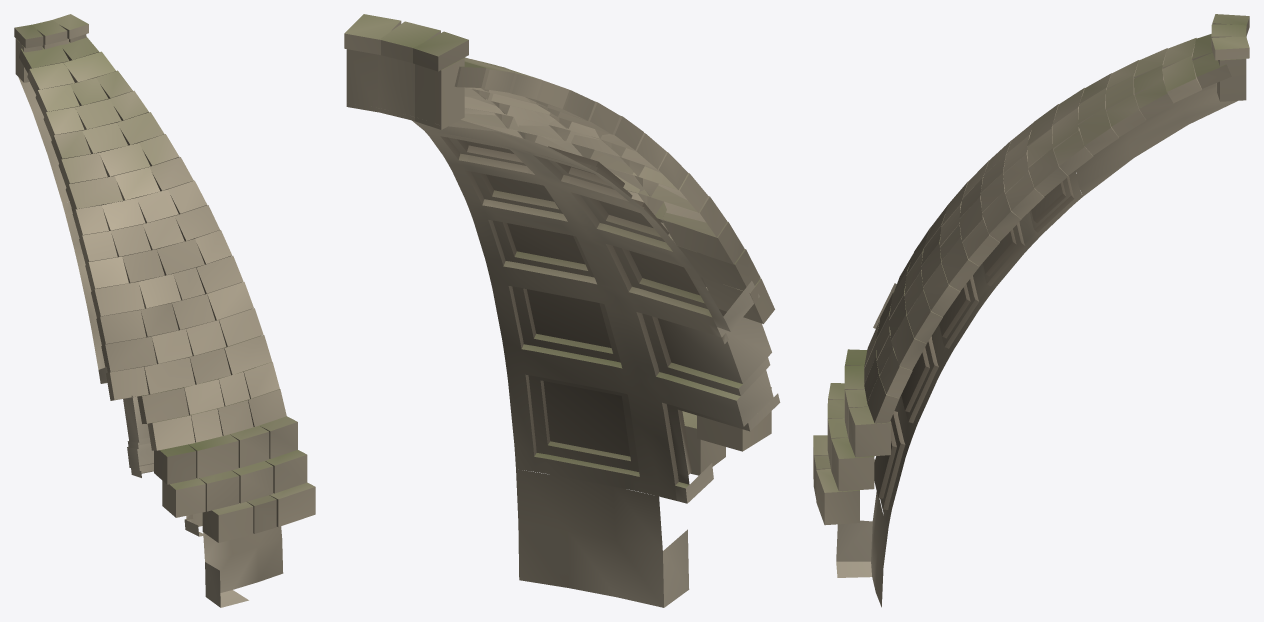
Rendered from dome_shell_bp2_mid.glb.
3 views of the same model, side by side, from view 1: azimuth 30°, elevation 25°; view 2: azimuth 150°, elevation 25°; view 3: azimuth 270°, elevation 25° (orthographic). The views are drawn at different scales.
Visible parts, largest first — view 1: dome_shell_bp2_mid; view 2: dome_shell_bp2_mid; view 3: dome_shell_bp2_mid.
Boxes of the visible parts, x1=… form: dome_shell_bp2_mid: x1=14, y1=14, x2=315, y2=607; dome_shell_bp2_mid: x1=344, y1=14, x2=780, y2=607; dome_shell_bp2_mid: x1=813, y1=14, x2=1249, y2=607.
Size of the model in its own units: 18.84 by 48.72 by 36.41.
